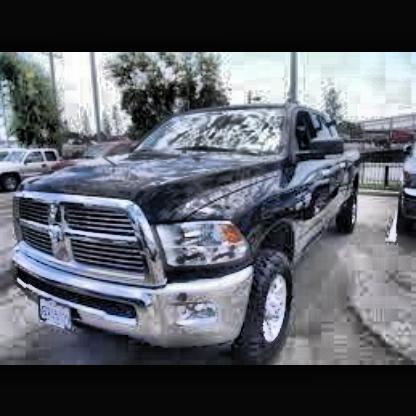Dodge Ram Pickup 3500 Crew Cab 2010: (2, 84, 368, 363)
